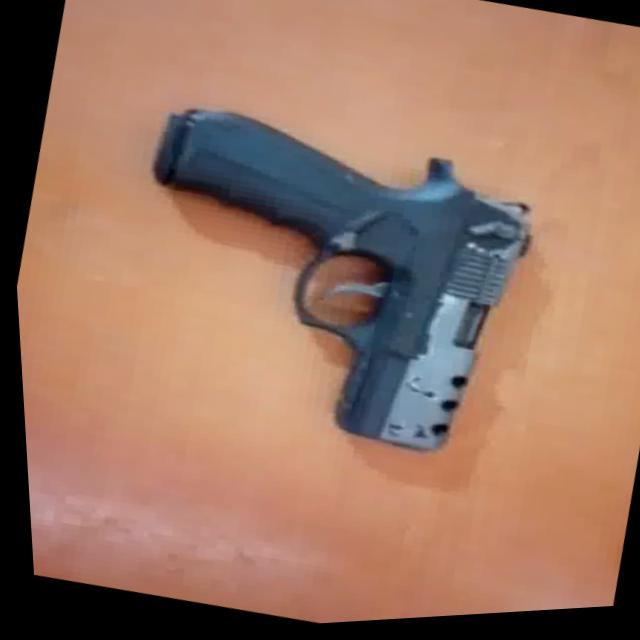weapon: (92, 82, 556, 486)
